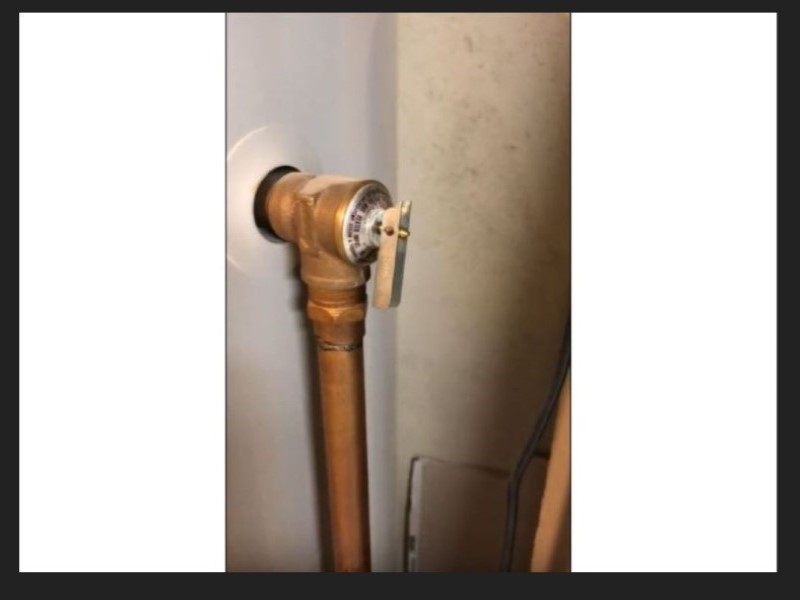Valve: (314, 177, 413, 322)
